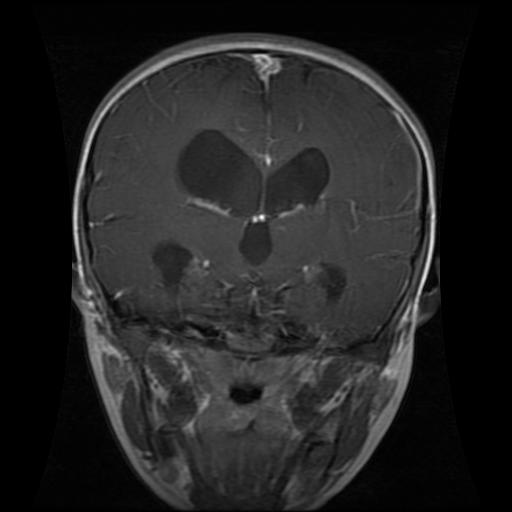Gliomia_tumour: (173, 125, 265, 219)
